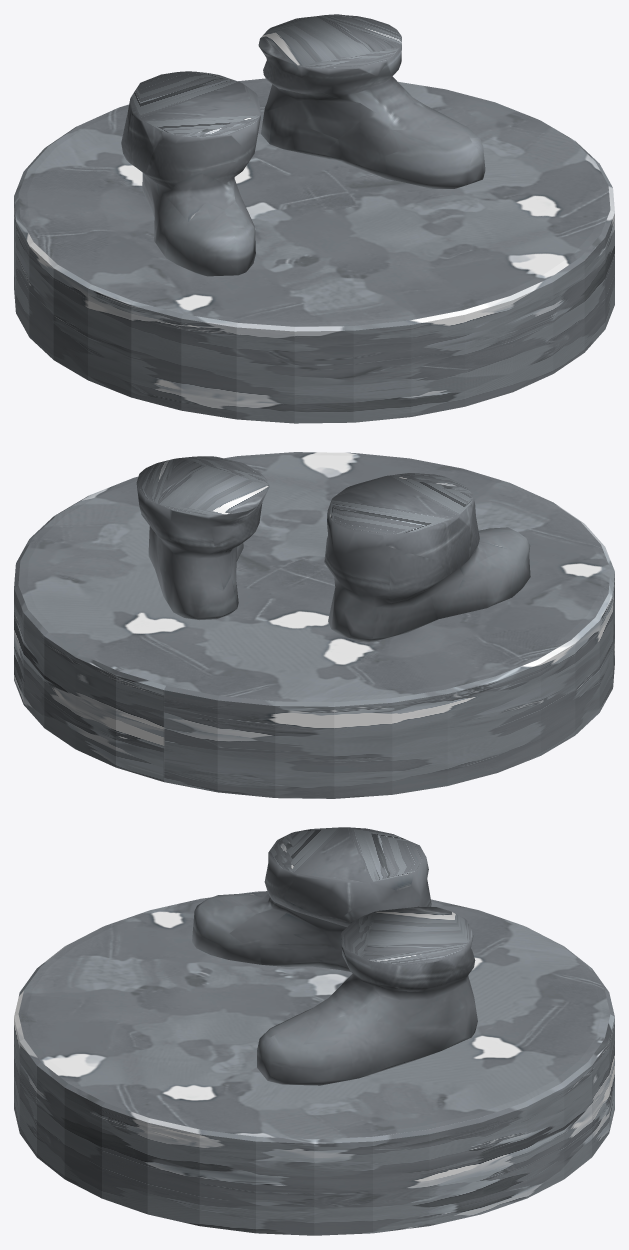
File: statue-bottom.glb
3 views of the same model, one above another, from view 1: azimuth 30°, elevation 25°; view 2: azimuth 150°, elevation 25°; view 3: azimuth 270°, elevation 25° (orthographic).
Visible parts, largest first — view 1: Cylinder, feet; view 2: Cylinder, feet; view 3: Cylinder, feet.
Part boxes in pixels (x1=…): Cylinder: x1=14, y1=78, x2=614, y2=423; feet: x1=121, y1=14, x2=485, y2=276; Cylinder: x1=14, y1=452, x2=614, y2=798; feet: x1=136, y1=456, x2=530, y2=641; Cylinder: x1=14, y1=891, x2=614, y2=1235; feet: x1=192, y1=827, x2=477, y2=1085.
Bounding box in the file's own units: 0.8 × 0.3 × 0.8.
Materials: 2 (2 with a texture image).
